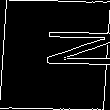N_W: (7, 34, 103, 76)
